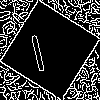I: (25, 25, 49, 73)
